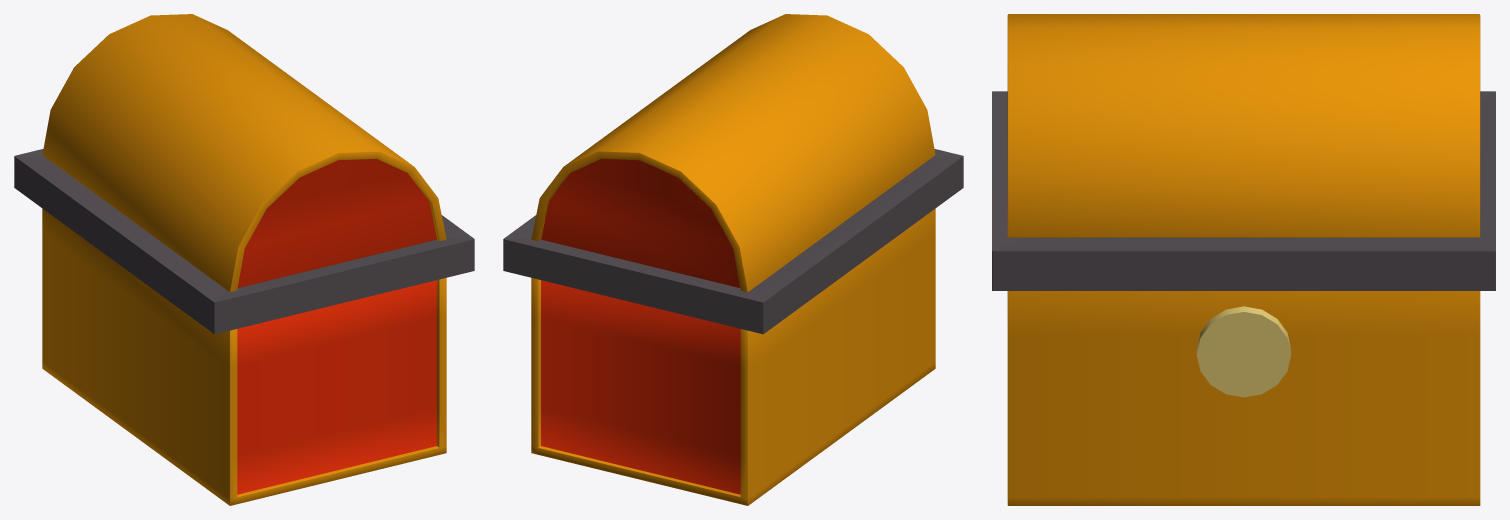
3 views of the same model, side by side, from view 1: azimuth 30°, elevation 25°; view 2: azimuth 150°, elevation 25°; view 3: azimuth 270°, elevation 25° (orthographic). The views are drawn at different scales.
Parts seen in each view (by area): view 1: 底部, 柱体, 开口, 金属; view 2: 底部, 柱体, 开口, 金属; view 3: 柱体, 底部, 开口, 金属, 扣.
Boxes of the visible parts, x1,y1,x2,y2 form: 底部: [42, 208, 446, 505]; 柱体: [42, 14, 446, 292]; 开口: [14, 149, 474, 318]; 金属: [14, 172, 474, 334]; 底部: [531, 208, 935, 505]; 柱体: [531, 14, 935, 292]; 开口: [503, 149, 963, 318]; 金属: [503, 172, 963, 334]; 柱体: [1007, 14, 1480, 237]; 底部: [1007, 291, 1480, 505]; 开口: [992, 91, 1495, 270]; 金属: [992, 271, 1495, 290]; 扣: [1196, 306, 1291, 397].
Bounding box in the file's own units: 240 × 288 × 320.
